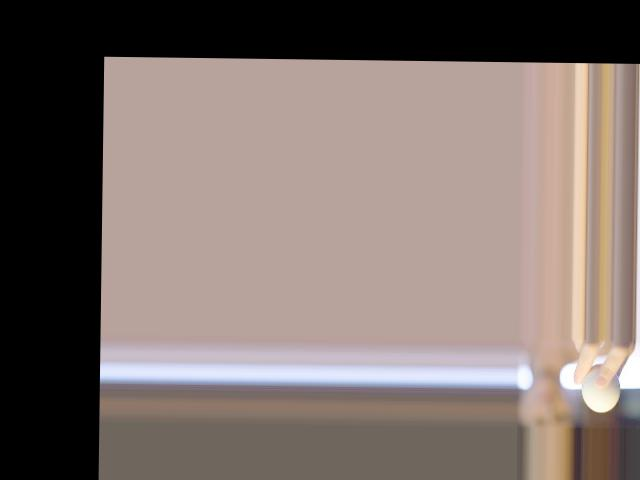egg: (580, 362, 619, 412)
